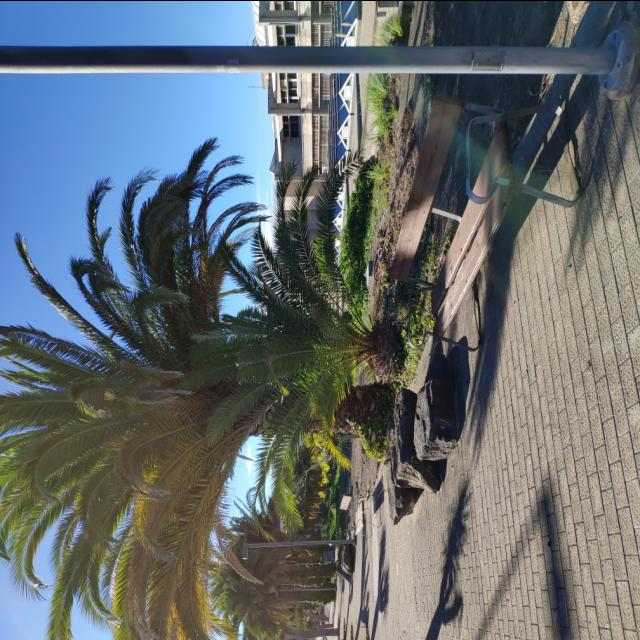Palm-Trees: (0, 174, 391, 640), (194, 173, 406, 480)
